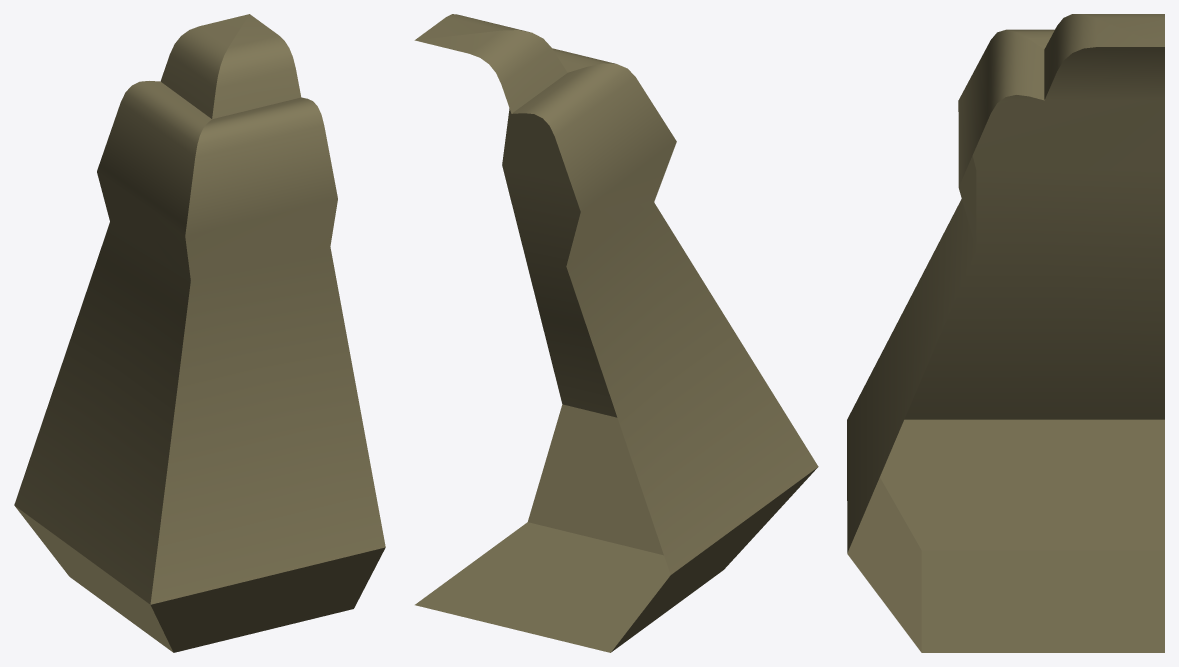
Rendered from corner part.FBX.
3 renders of one model, left to right at view 1: azimuth 30°, elevation 25°; view 2: azimuth 150°, elevation 25°; view 3: azimuth 270°, elevation 25°, orthographic. The views are drawn at different scales.
Parts seen in each view (by area): view 1: Object1196324280; view 2: Object1196324280; view 3: Object1196324280.
Boxes of the visible parts, box(x1,y1,x2,y2) form: Object1196324280: box(14, 14, 385, 652); Object1196324280: box(414, 14, 818, 652); Object1196324280: box(847, 14, 1164, 652).
Bounding box in the file's own units: 0.275 × 0.5787 × 0.2751.
